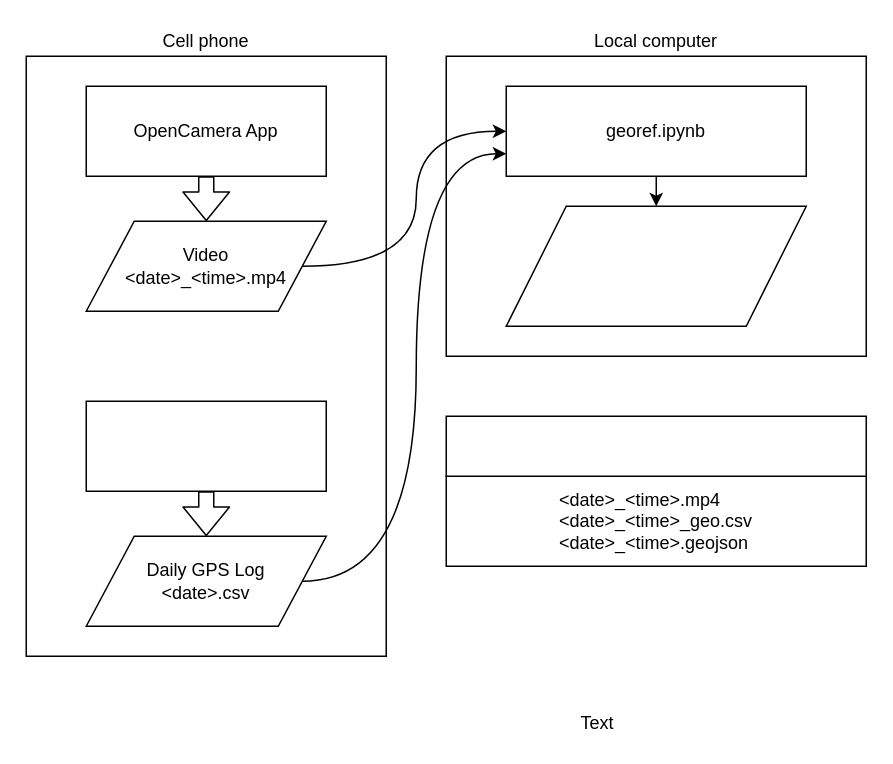
The diagram is 893 pixels wide and 764 high, and some of its shapes have lost their labels. Each missing label, with the centre of its shape:
<date>_<time>_geo.csv frame number, UTC timestamp, lat, lon: the point at 655,265
GpsLogger App: the point at 205,445
s3://cnas.uog-re.onepanel.io/raw_input/<date>: the point at 655,445
